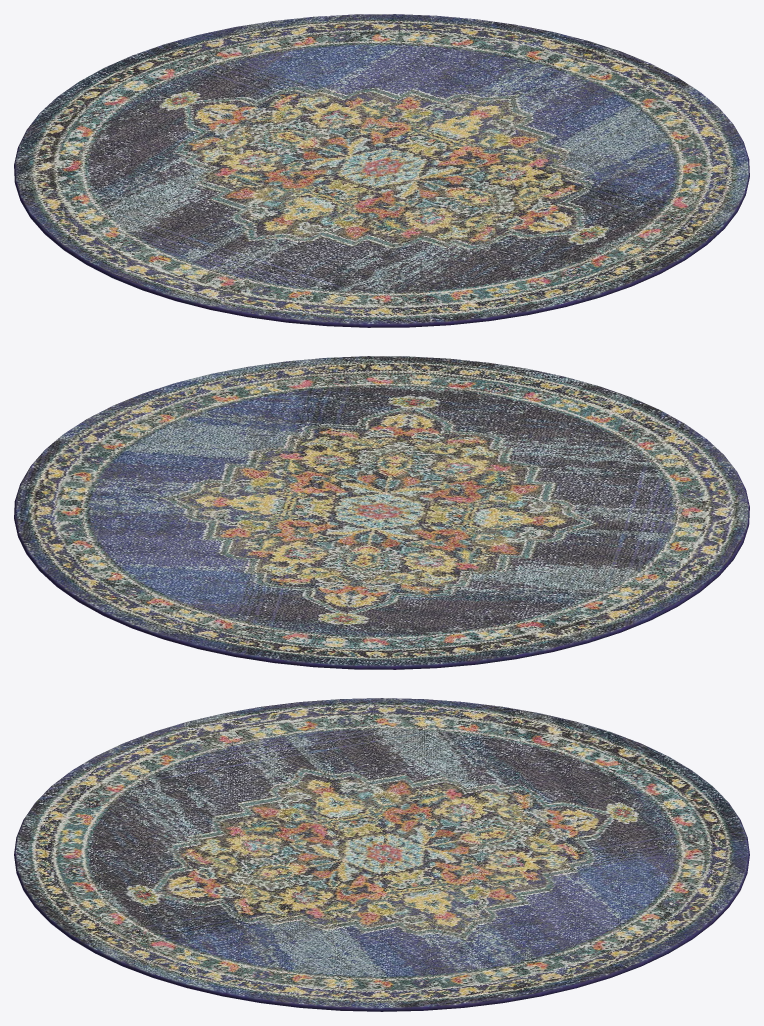
File: B07HSHRZRT.glb
The picture shows the model from 3 angles, top to bottom: view 1: azimuth 30°, elevation 25°; view 2: azimuth 150°, elevation 25°; view 3: azimuth 270°, elevation 25°; orthographic projection.
Visible parts, largest first — view 1: RootNode; view 2: RootNode; view 3: RootNode.
Boxes of the visible parts, x1=… form: RootNode: x1=14, y1=14, x2=749, y2=327; RootNode: x1=14, y1=356, x2=749, y2=669; RootNode: x1=14, y1=698, x2=749, y2=1011.
Size of the model in its own units: 1.59 by 0.00952 by 1.59.
Materials: 1 (1 with a texture image).
